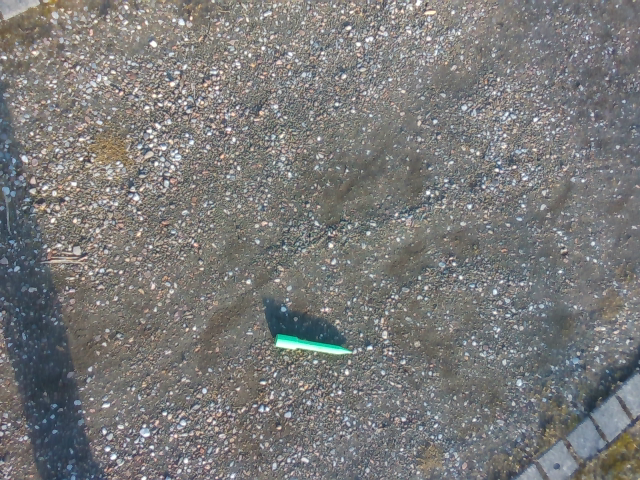Probe: (270, 329, 359, 360)
